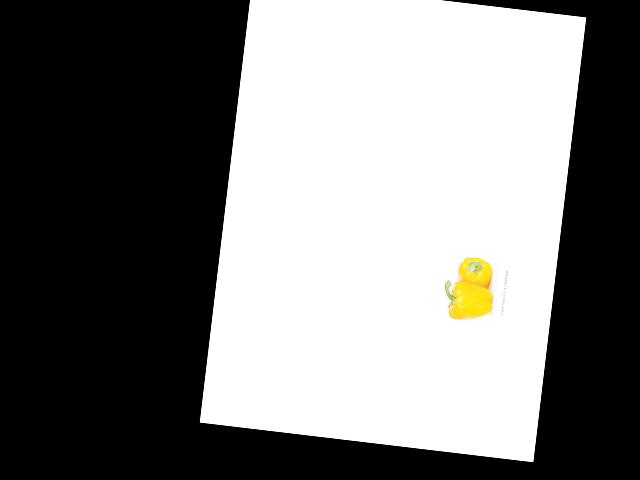bell_pepper: (453, 254, 495, 290)
